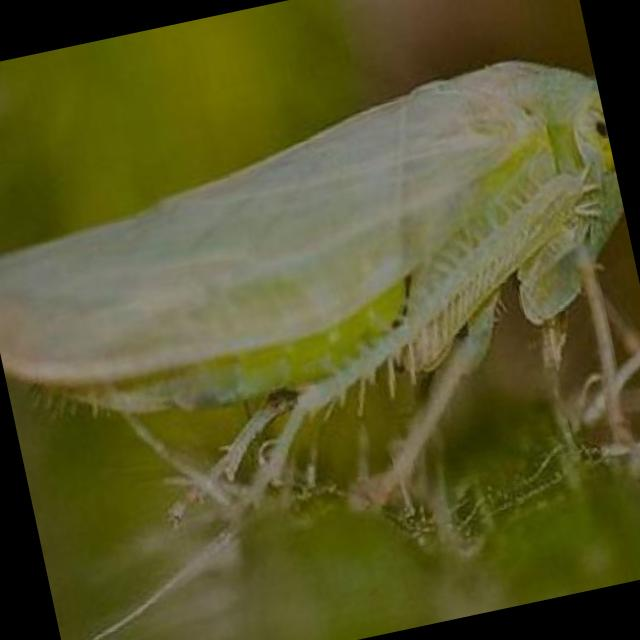green-leafhopper: (0, 42, 640, 502)
